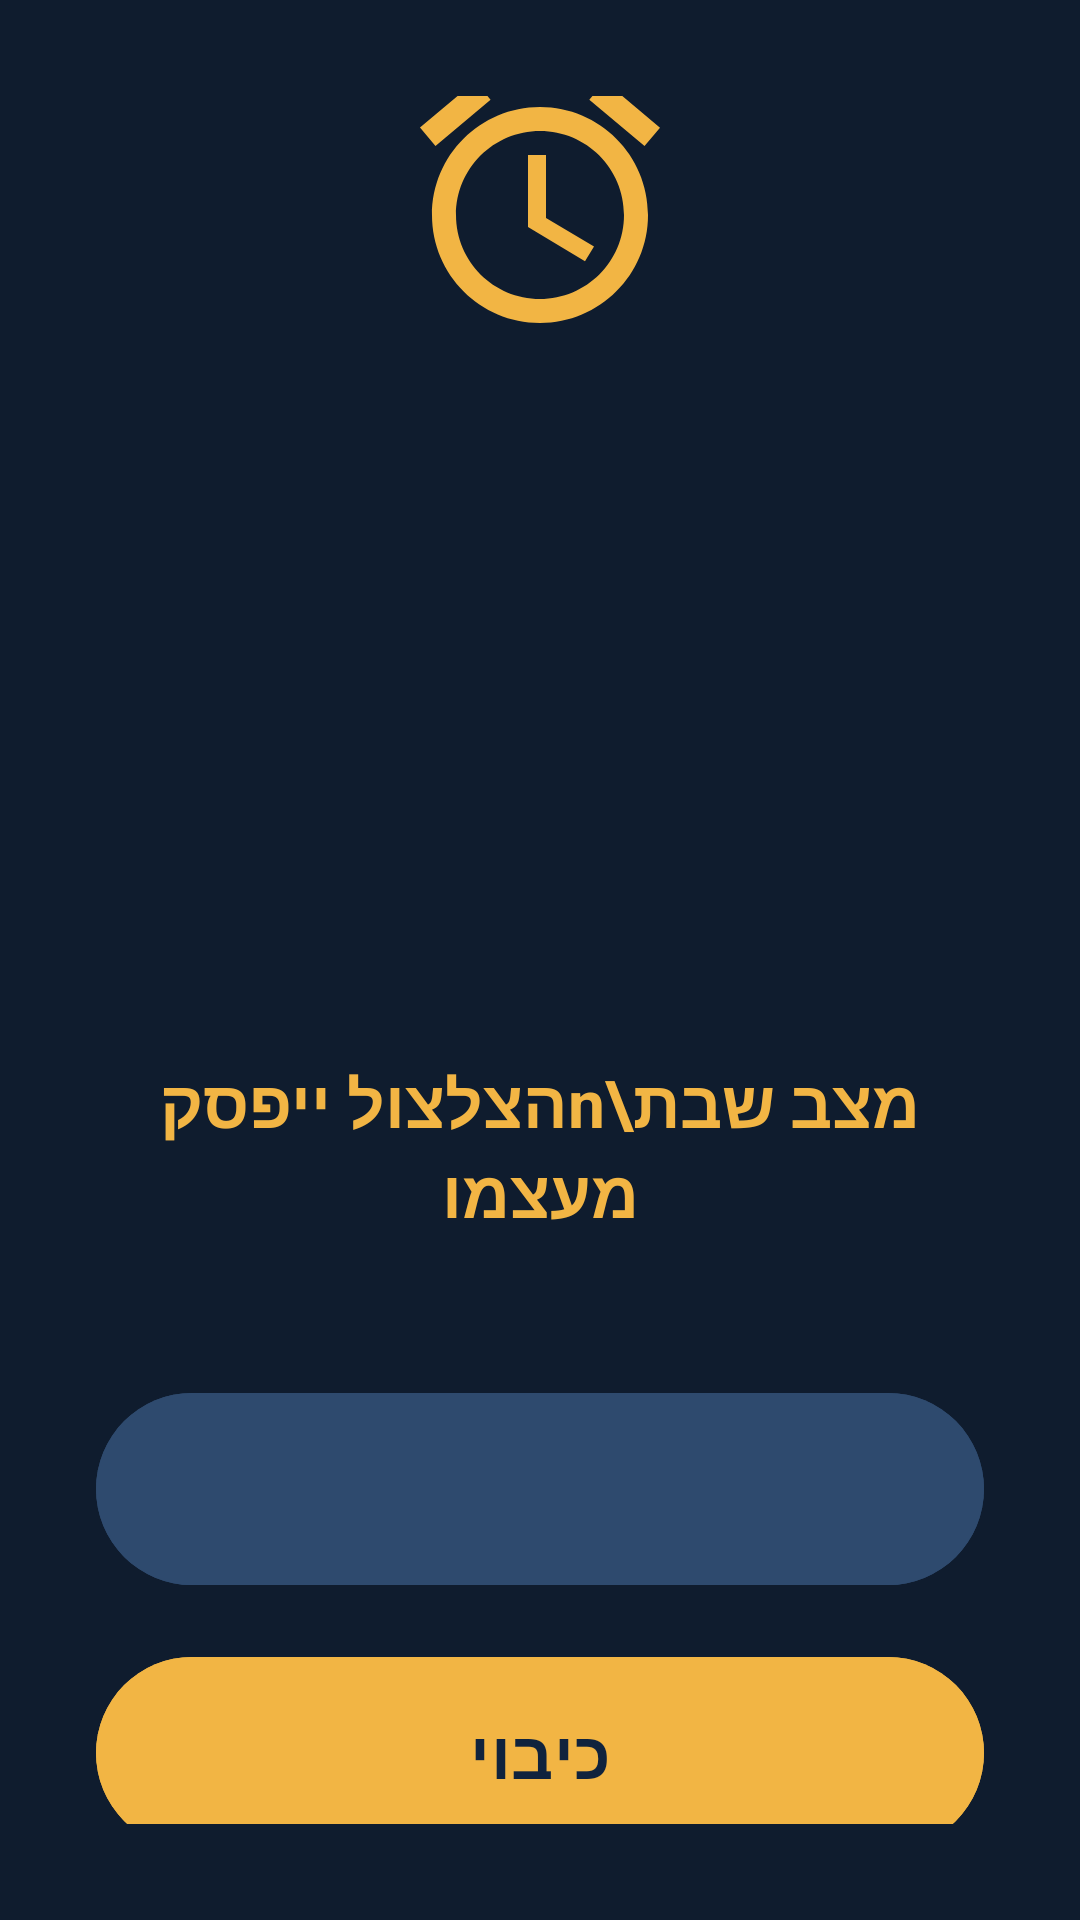

Where icons sit on this 1080 × 1920 app screen, as (x1, y1, x2, y2):
alarm: (420, 96, 660, 323)
